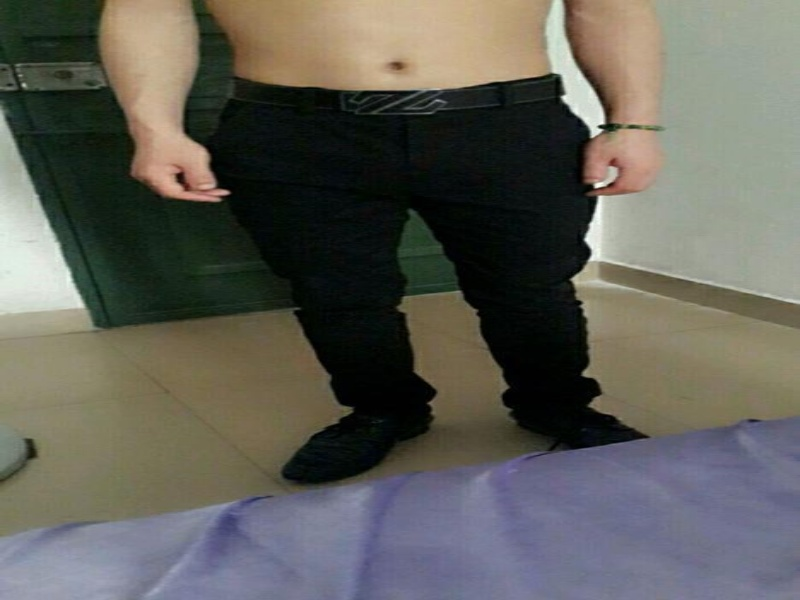trousers: (222, 72, 597, 416)
